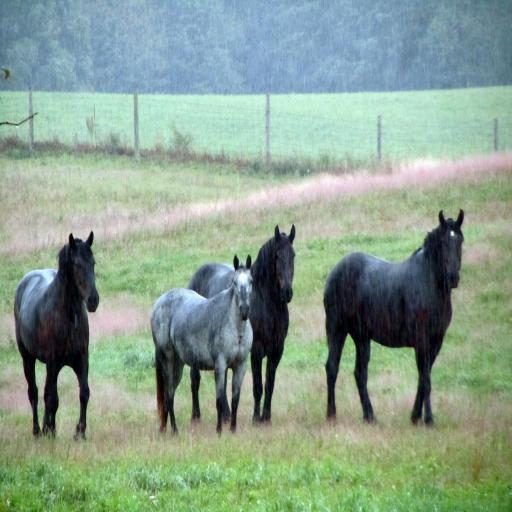horse: (324, 207, 466, 428), (185, 224, 297, 426), (12, 228, 100, 443), (153, 250, 254, 432)
